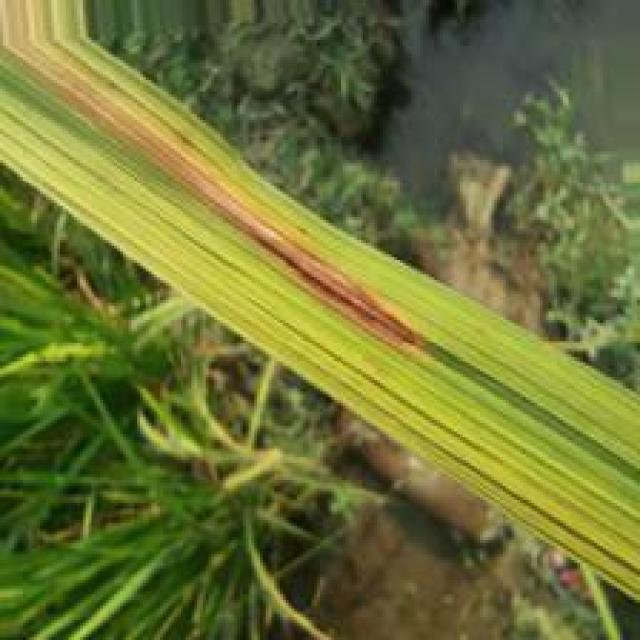Leaf_Blast: (212, 203, 429, 359)
